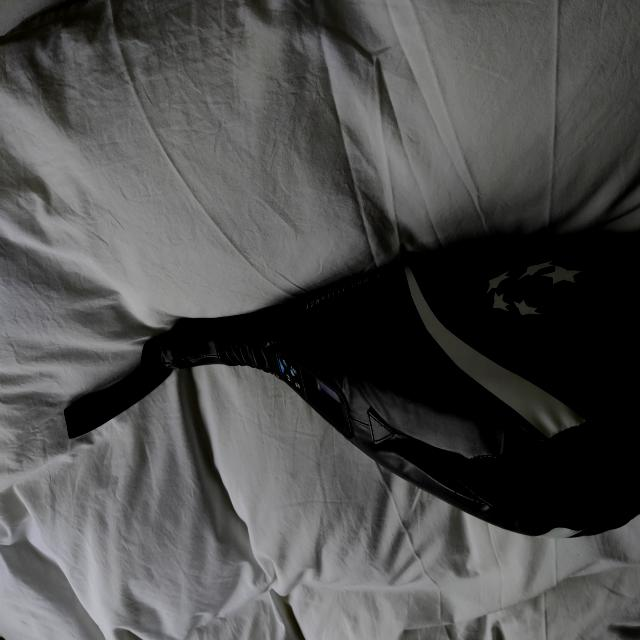paddle: (159, 228, 640, 544)
